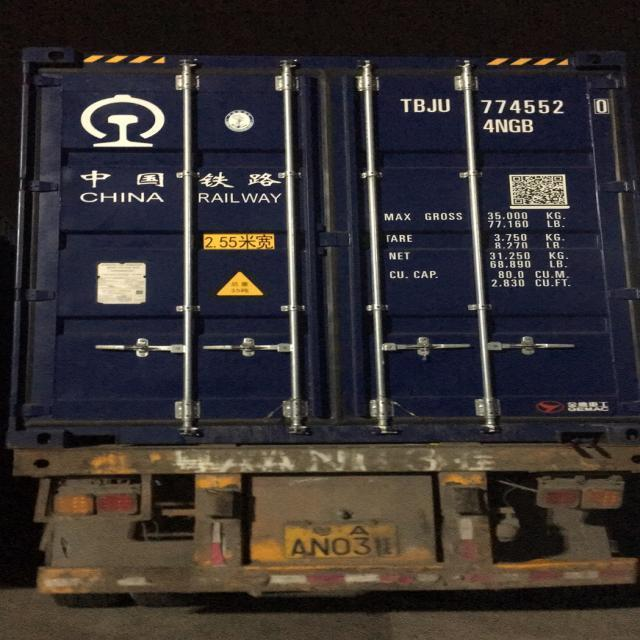ISO: (480, 118, 536, 136)
container_number: (401, 98, 613, 118)
